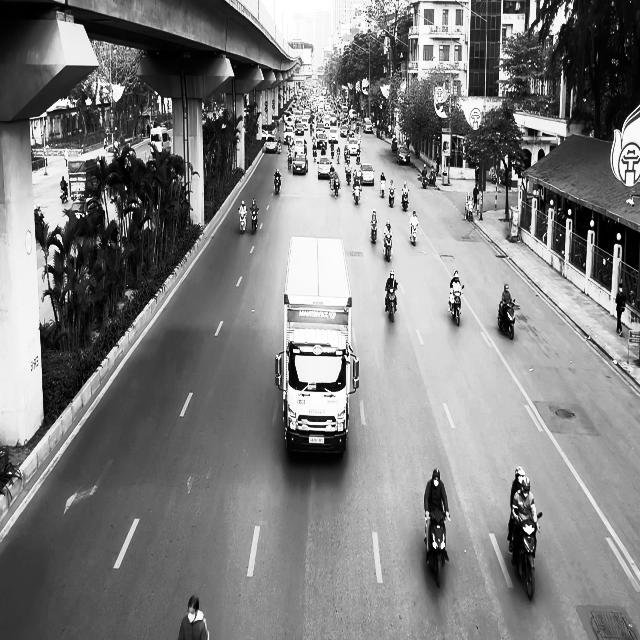bus: (150, 125, 173, 156)
car: (360, 162, 375, 185), (318, 155, 332, 179), (396, 145, 411, 165)
motorbike: (511, 511, 542, 601), (425, 510, 450, 588), (498, 298, 516, 339), (449, 284, 465, 326), (385, 285, 398, 322), (383, 234, 393, 262), (251, 207, 259, 233), (410, 220, 418, 246), (465, 199, 474, 222), (239, 209, 247, 234), (353, 182, 362, 204), (333, 173, 341, 196), (370, 222, 378, 244), (60, 185, 69, 203), (401, 191, 409, 211), (274, 173, 281, 194), (380, 179, 386, 198), (389, 188, 395, 207)
truck: (275, 235, 360, 458)
